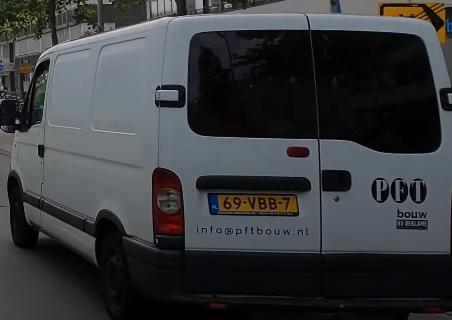license-plate: (206, 194, 302, 216)
